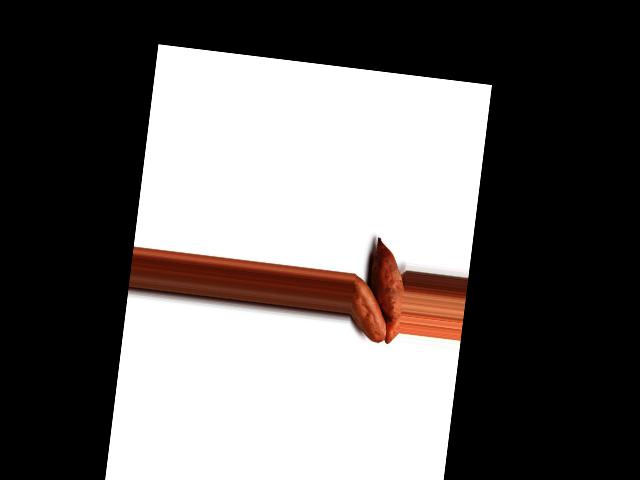sweet_potato: (346, 270, 392, 343)
